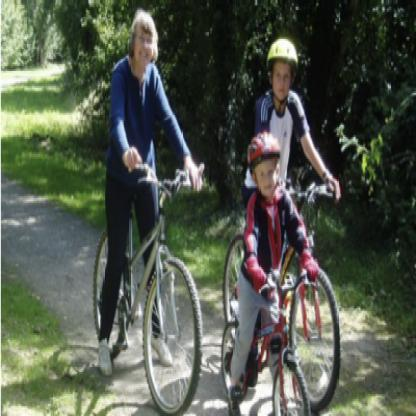With Helmet: (244, 132, 283, 197), (267, 34, 298, 99)
Without Helmet: (127, 7, 158, 75)
